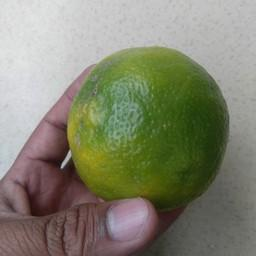Good_orange: (65, 43, 232, 212)
